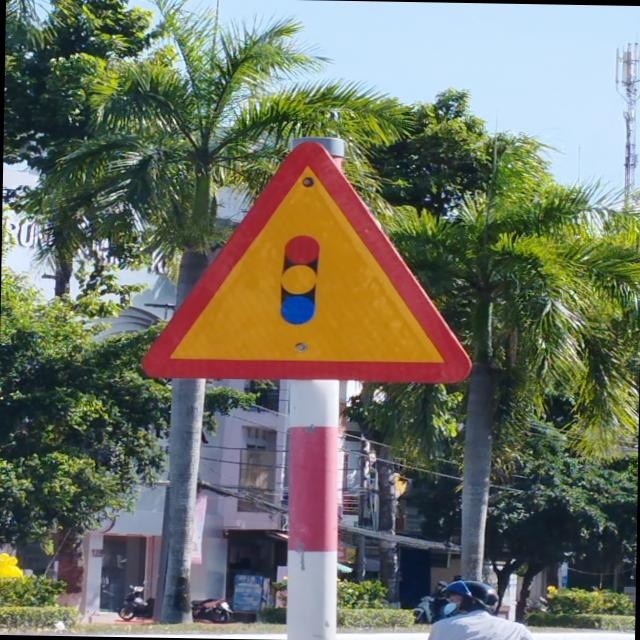Duong_Co_Go_Giam_Toc: (138, 138, 472, 383)
